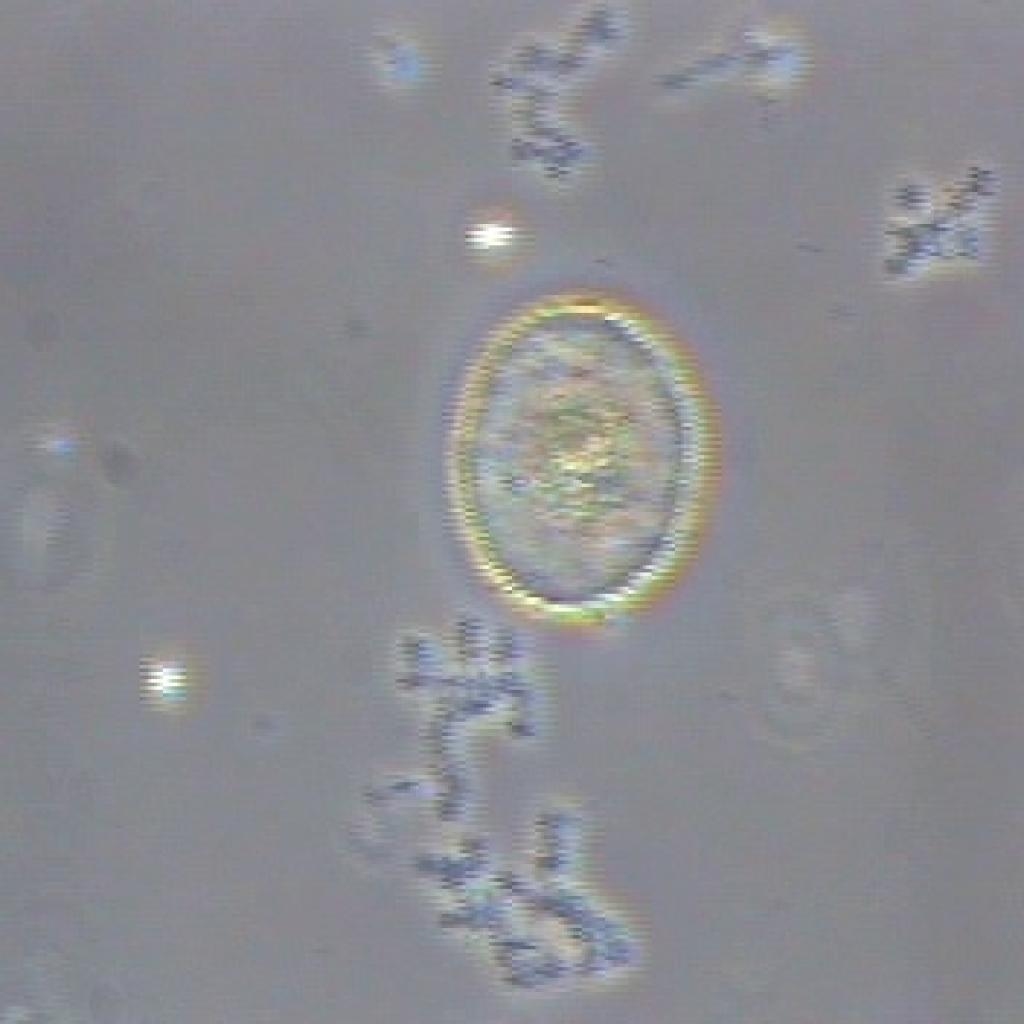Arcella: (452, 292, 712, 618)
